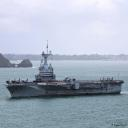Portanaves: (4, 38, 126, 101)
